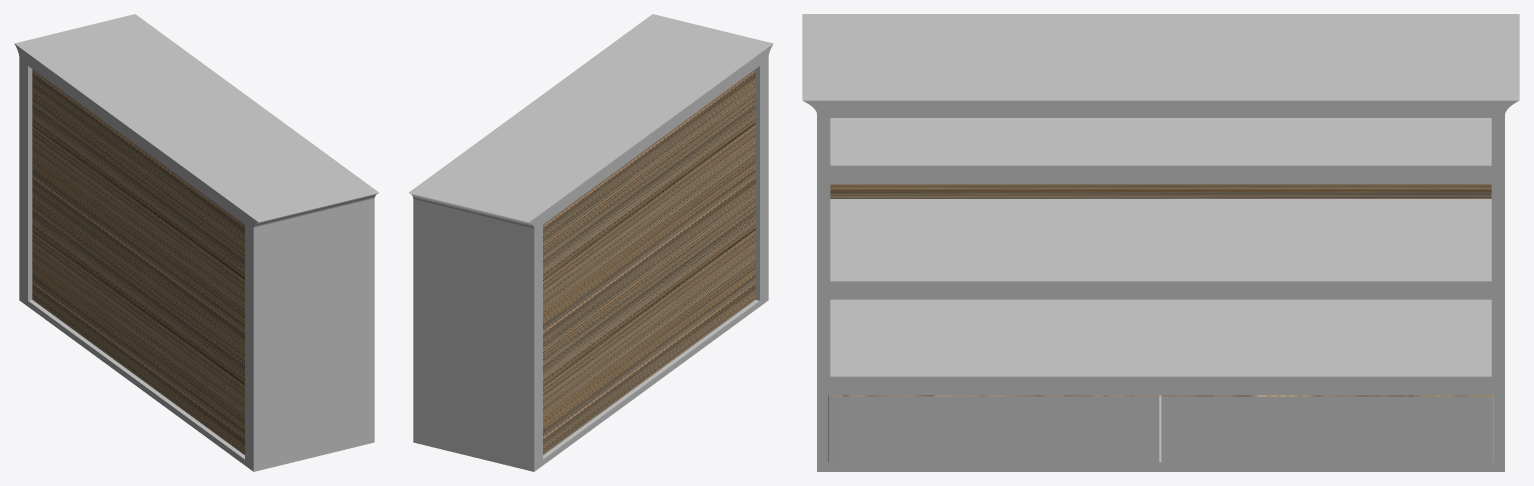
The model's file is GamesRoomBookshelf 4.fbx.
The picture shows the model from 3 angles, left to right: view 1: azimuth 30°, elevation 25°; view 2: azimuth 150°, elevation 25°; view 3: azimuth 270°, elevation 25°; orthographic projection. The views are drawn at different scales.
Visible parts, largest first — view 1: Bookcase; view 2: Bookcase; view 3: Bookcase.
Boxes of the visible parts, x1,y1,x2,y2 form: Bookcase: [14, 14, 379, 471]; Bookcase: [408, 14, 773, 471]; Bookcase: [802, 14, 1519, 471].
Size of the model in its own units: 102 by 200 by 350.
